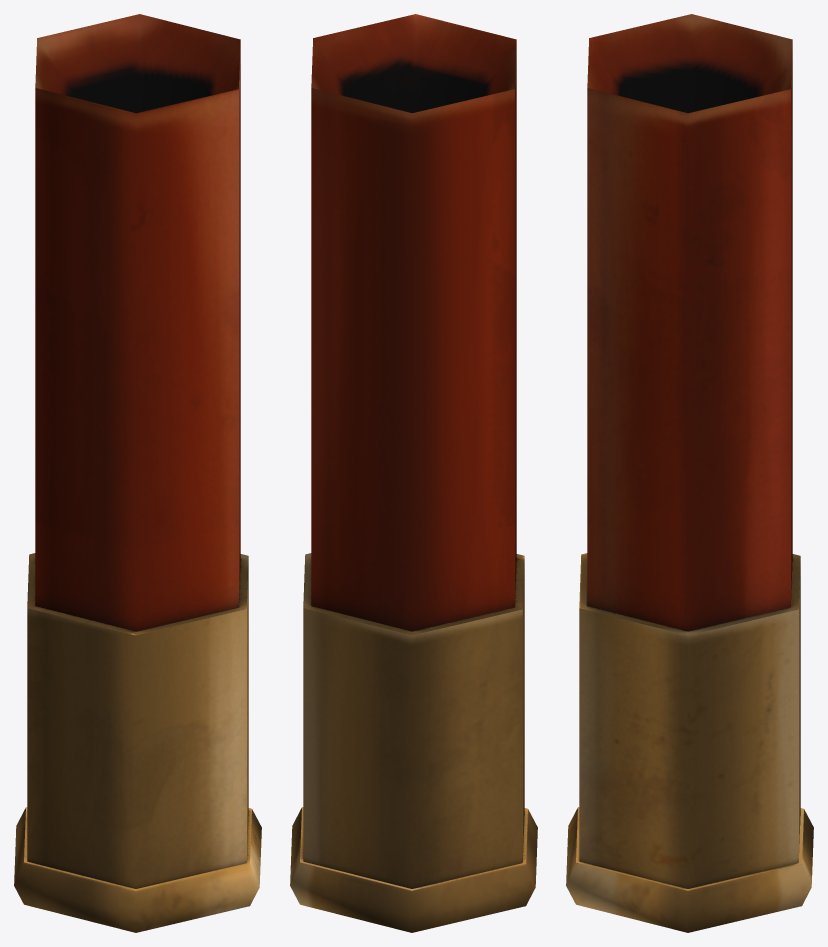
The model's file is NewAmmoShotgunShell.fbx.
3 renders of one model, left to right at view 1: azimuth 30°, elevation 25°; view 2: azimuth 150°, elevation 25°; view 3: azimuth 270°, elevation 25°, orthographic.
Visible parts, largest first — view 1: Amination_Shot_Gun; view 2: Amination_Shot_Gun; view 3: Amination_Shot_Gun.
Boxes of the visible parts, bbox=[...] form: Amination_Shot_Gun: bbox=[14, 14, 261, 932]; Amination_Shot_Gun: bbox=[290, 14, 537, 932]; Amination_Shot_Gun: bbox=[566, 14, 813, 932].
Size of the model in its own units: 0.1113 by 0.3525 by 0.0972.
